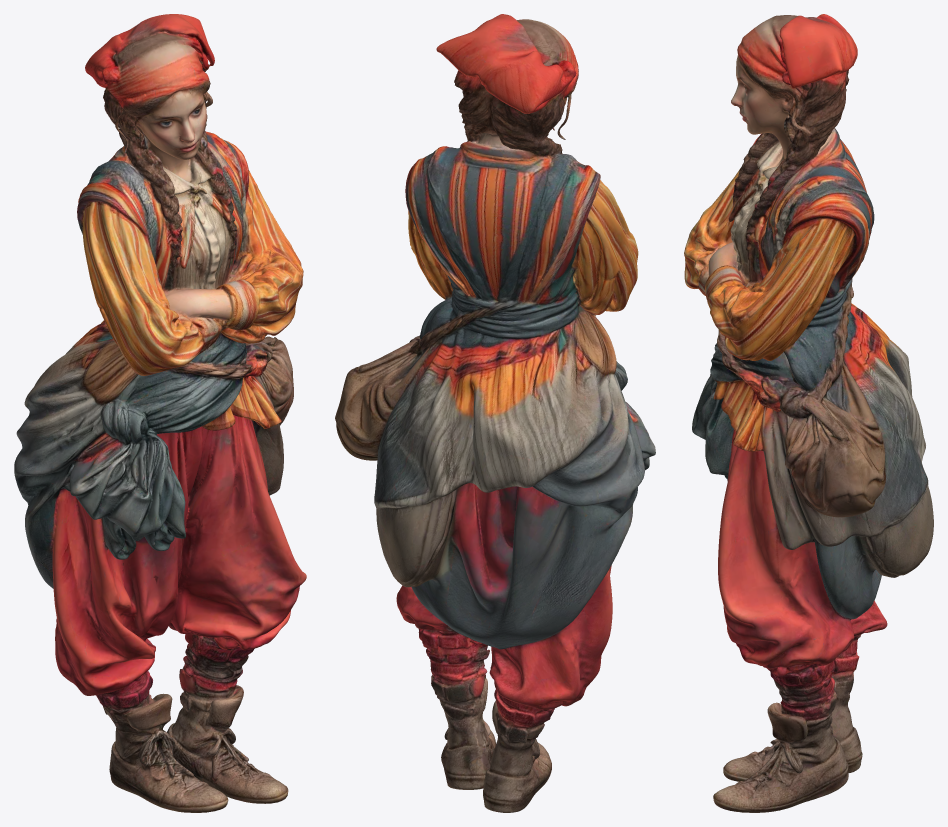
File: humanpeasant2.glb
3 views of the same model, side by side, from view 1: azimuth 30°, elevation 25°; view 2: azimuth 150°, elevation 25°; view 3: azimuth 270°, elevation 25° (orthographic).
Bounding box in the file's own units: 0.7388 × 1.9 × 0.5682.
Materials: 1 (1 with a texture image).
